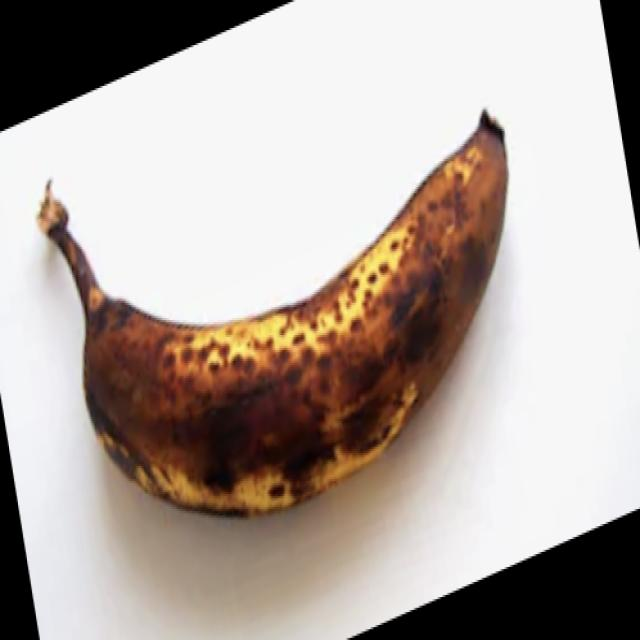overripe: (82, 110, 518, 524)
